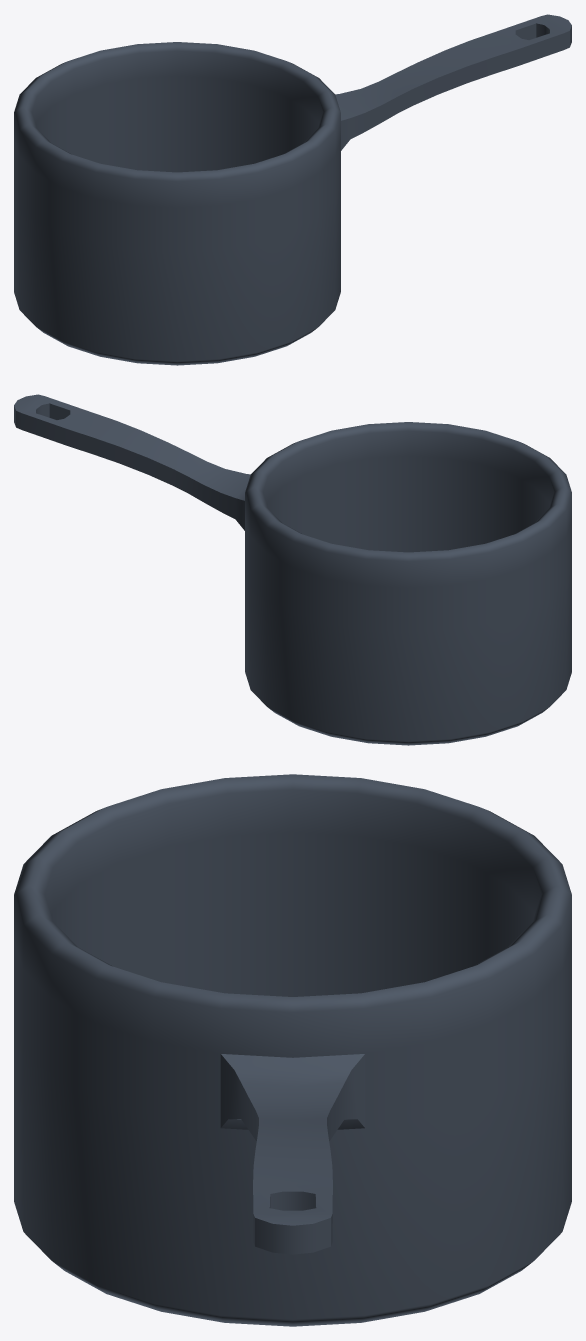
File: Saucepan.fbx
The picture shows the model from 3 angles, top to bottom: view 1: azimuth 30°, elevation 25°; view 2: azimuth 150°, elevation 25°; view 3: azimuth 270°, elevation 25°; orthographic projection. The views are drawn at different scales.
Parts seen in each view (by area): view 1: Saucepan; view 2: Saucepan; view 3: Saucepan.
Boxes of the visible parts, x1,y1,x2,y2 form: Saucepan: [14, 14, 571, 365]; Saucepan: [14, 394, 571, 745]; Saucepan: [14, 774, 571, 1326].
Bounding box in the file's own units: 61.6 × 21.33 × 32.75.
